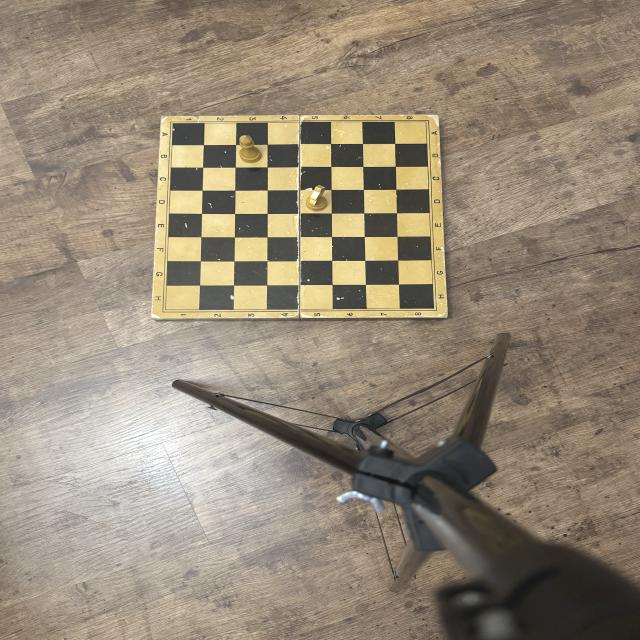white-bishop: (239, 135, 262, 163)
white-knight: (306, 184, 328, 212)
